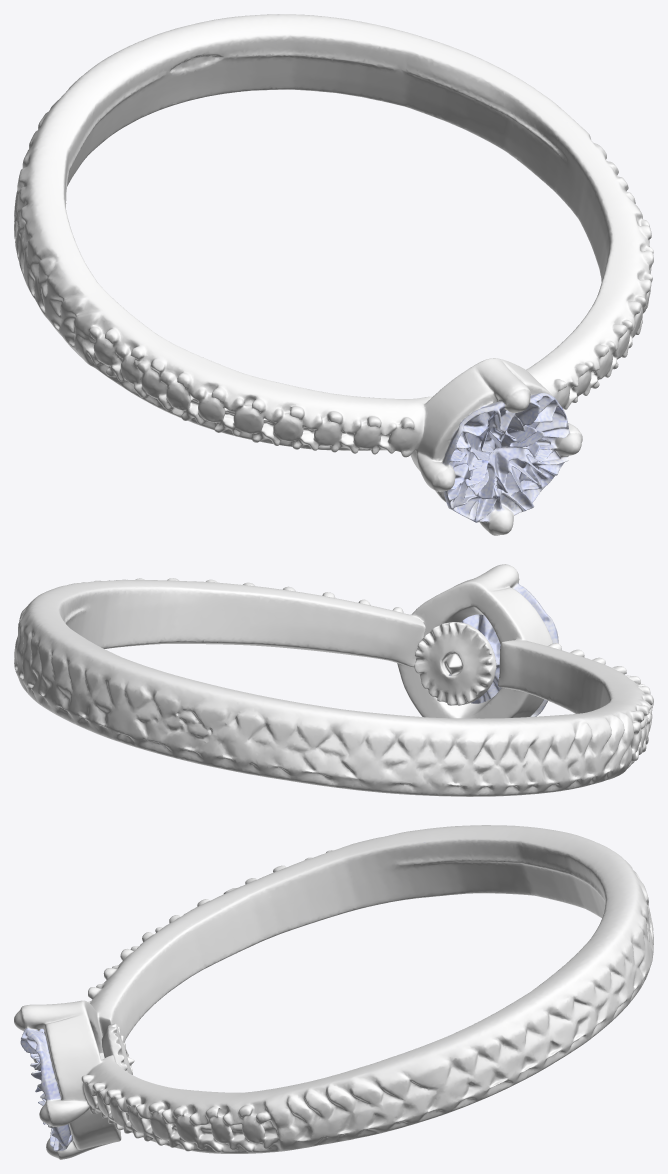
3 renders of one model, top to bottom at view 1: azimuth 30°, elevation 25°; view 2: azimuth 150°, elevation 25°; view 3: azimuth 270°, elevation 25°, orthographic. The views are drawn at different scales.
Size of the model in its own units: 0.8937 by 0.4416 by 0.9669.
Materials: 1 (1 with a texture image).
